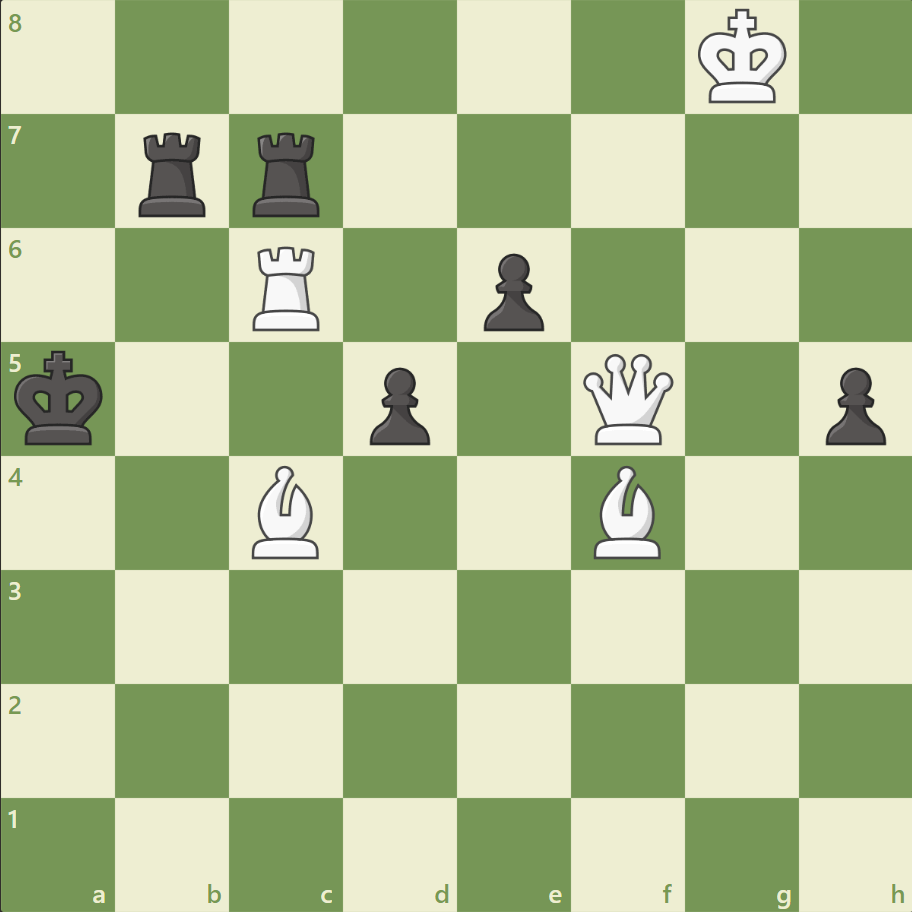B: (244, 460, 328, 563), (585, 460, 669, 563)
K: (692, 4, 792, 112)
Q: (578, 349, 677, 449)
R: (246, 239, 329, 336)
k: (11, 344, 111, 452)
p: (474, 246, 549, 337), (361, 359, 435, 450), (815, 359, 889, 450)
r: (246, 125, 329, 222), (133, 125, 215, 222)
